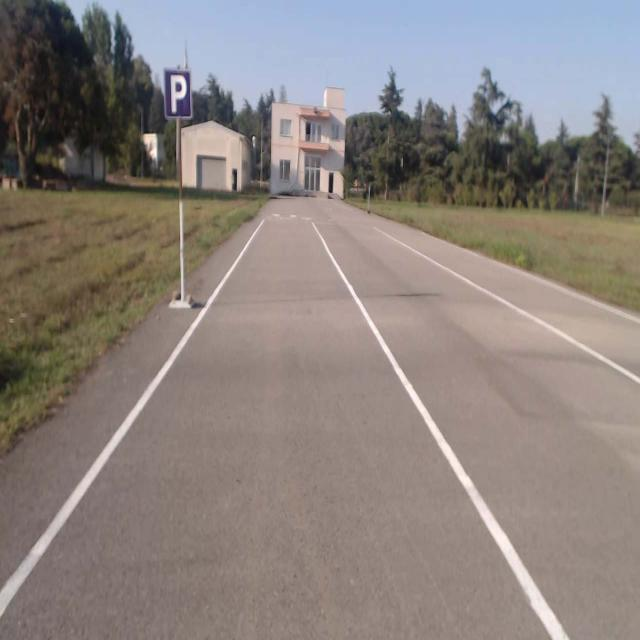park: (163, 68, 191, 115)
